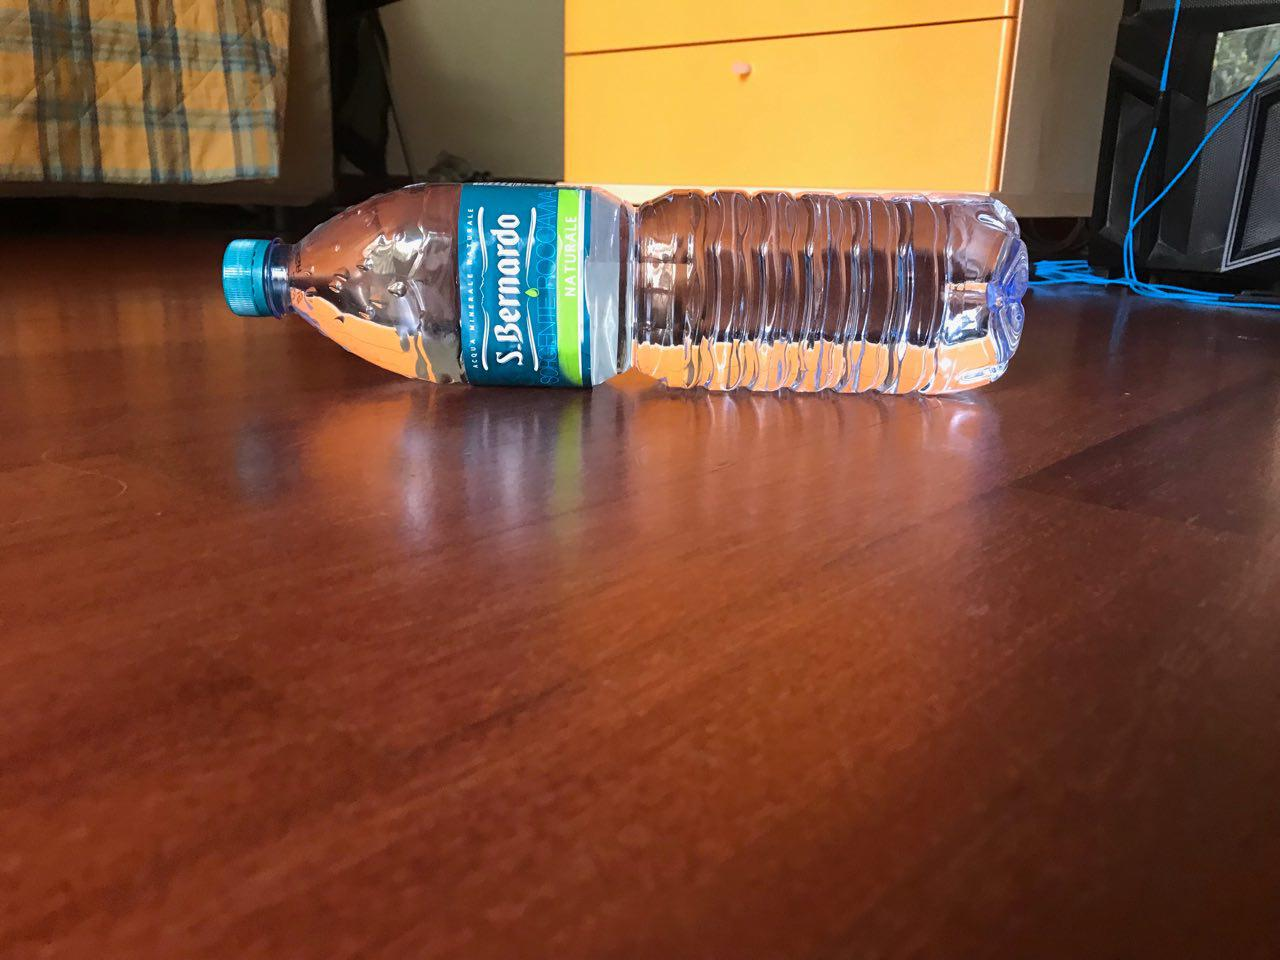san_bernardo: (217, 183, 1031, 396)
